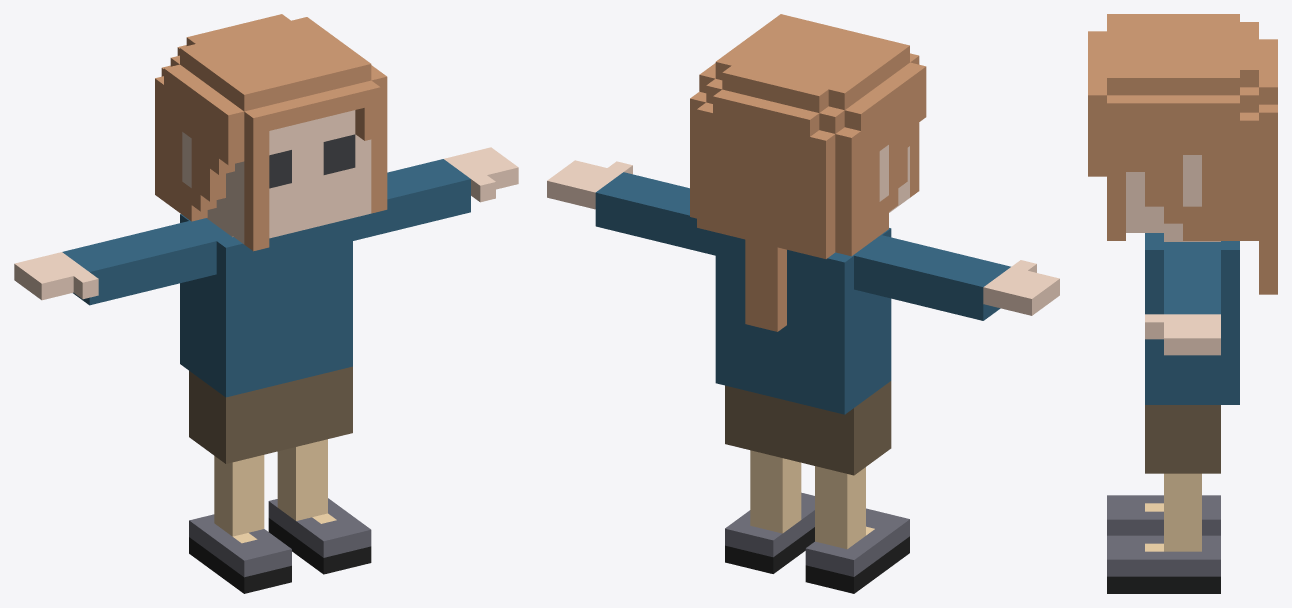
File: student-8.obj
3 renders of one model, left to right at view 1: azimuth 30°, elevation 25°; view 2: azimuth 150°, elevation 25°; view 3: azimuth 270°, elevation 25°, orthographic. The views are drawn at different scales.
Size of the model in its own units: 3 by 3 by 1.
1 material, 1 textured.
